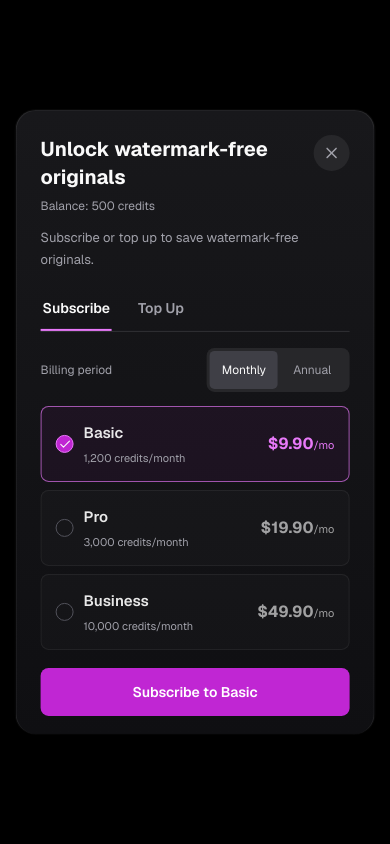
CreditPopup Apple purchase flow › shows a retryable web top-up error for an invalid checkout response: {"ok":false,"data":{"error":"Checkout unavailable"}}
This screenshot has width=390, height=844.
Click the tab "Top Up" at (161, 309), box [136, 287, 186, 331]
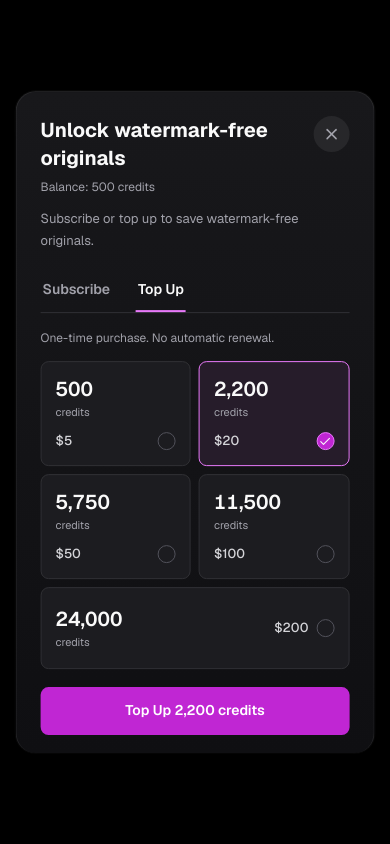
Click the button "Top Up 2,200 credits" at (195, 711), box [41, 687, 349, 735]
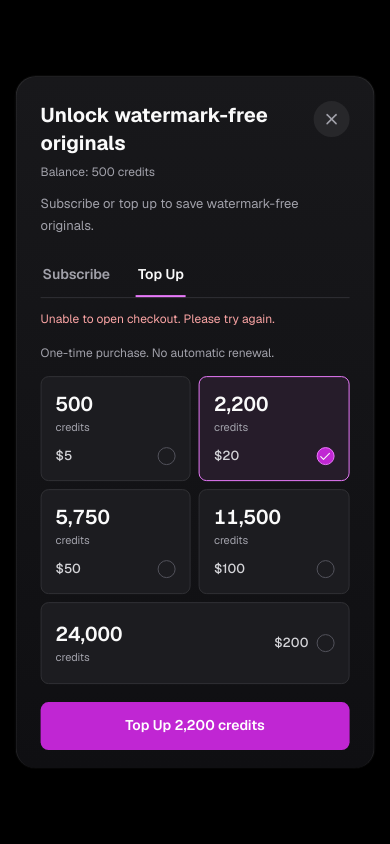
Check: the button "Top Up 2,200 credits" is enabled, box [41, 702, 349, 750]
Check: the text "Unable to open checkout. Please try again." is shown, box [41, 311, 275, 327]
